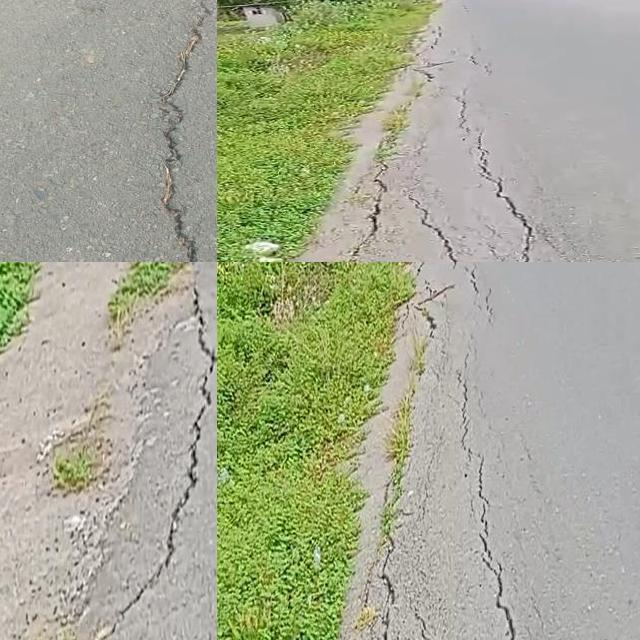Memanjang: (68, 278, 217, 640), (143, 0, 217, 262), (447, 104, 547, 262), (462, 438, 533, 640), (404, 195, 481, 262)
Pinggir: (268, 262, 469, 640)
